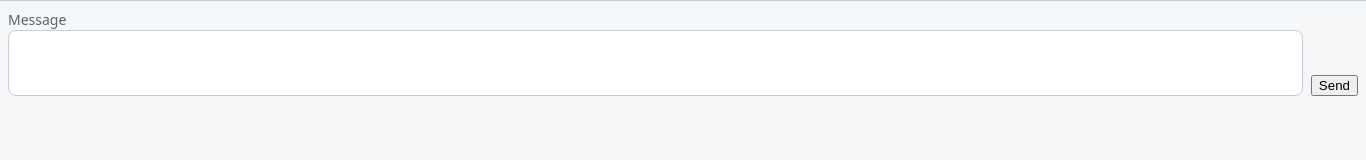
Test: Composer › sends with the Send button and moves the focus back to the text box
Type "hello" into the text box labelled "Message" at (655, 63), box [8,30,1303,96]
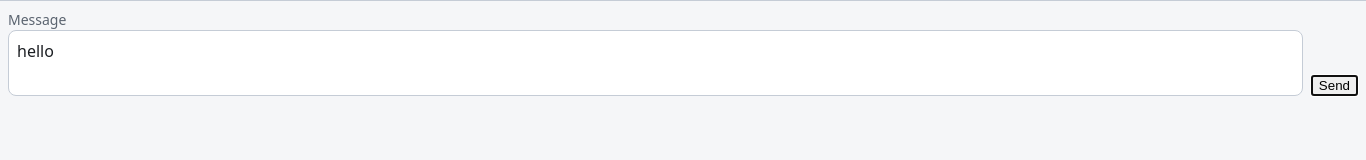
Click the button "Send" at (1334, 86), box [1311,75,1358,96]
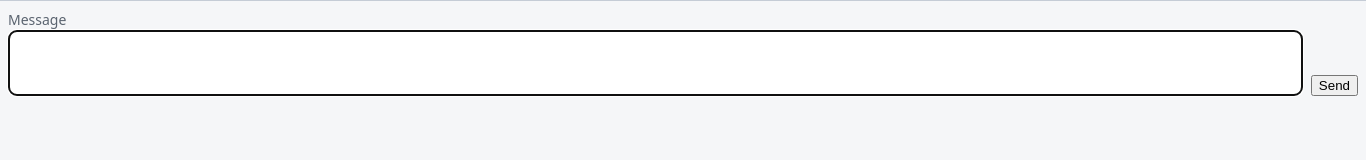
Now the text box labelled "Message" is empty, box [8,30,1303,96]
